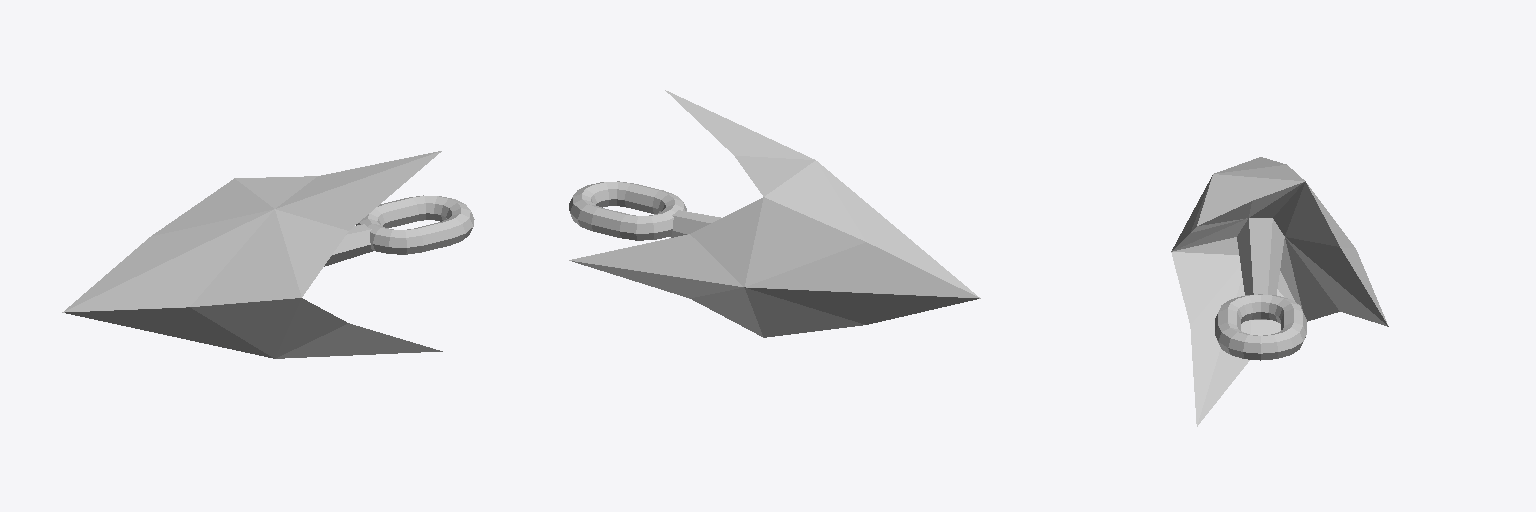
File: hook.obj
3 views of the same model, side by side, from view 1: azimuth 30°, elevation 25°; view 2: azimuth 150°, elevation 25°; view 3: azimuth 270°, elevation 25° (orthographic).
Size of the model in its own units: 4.06 by 1.92 by 1.88.